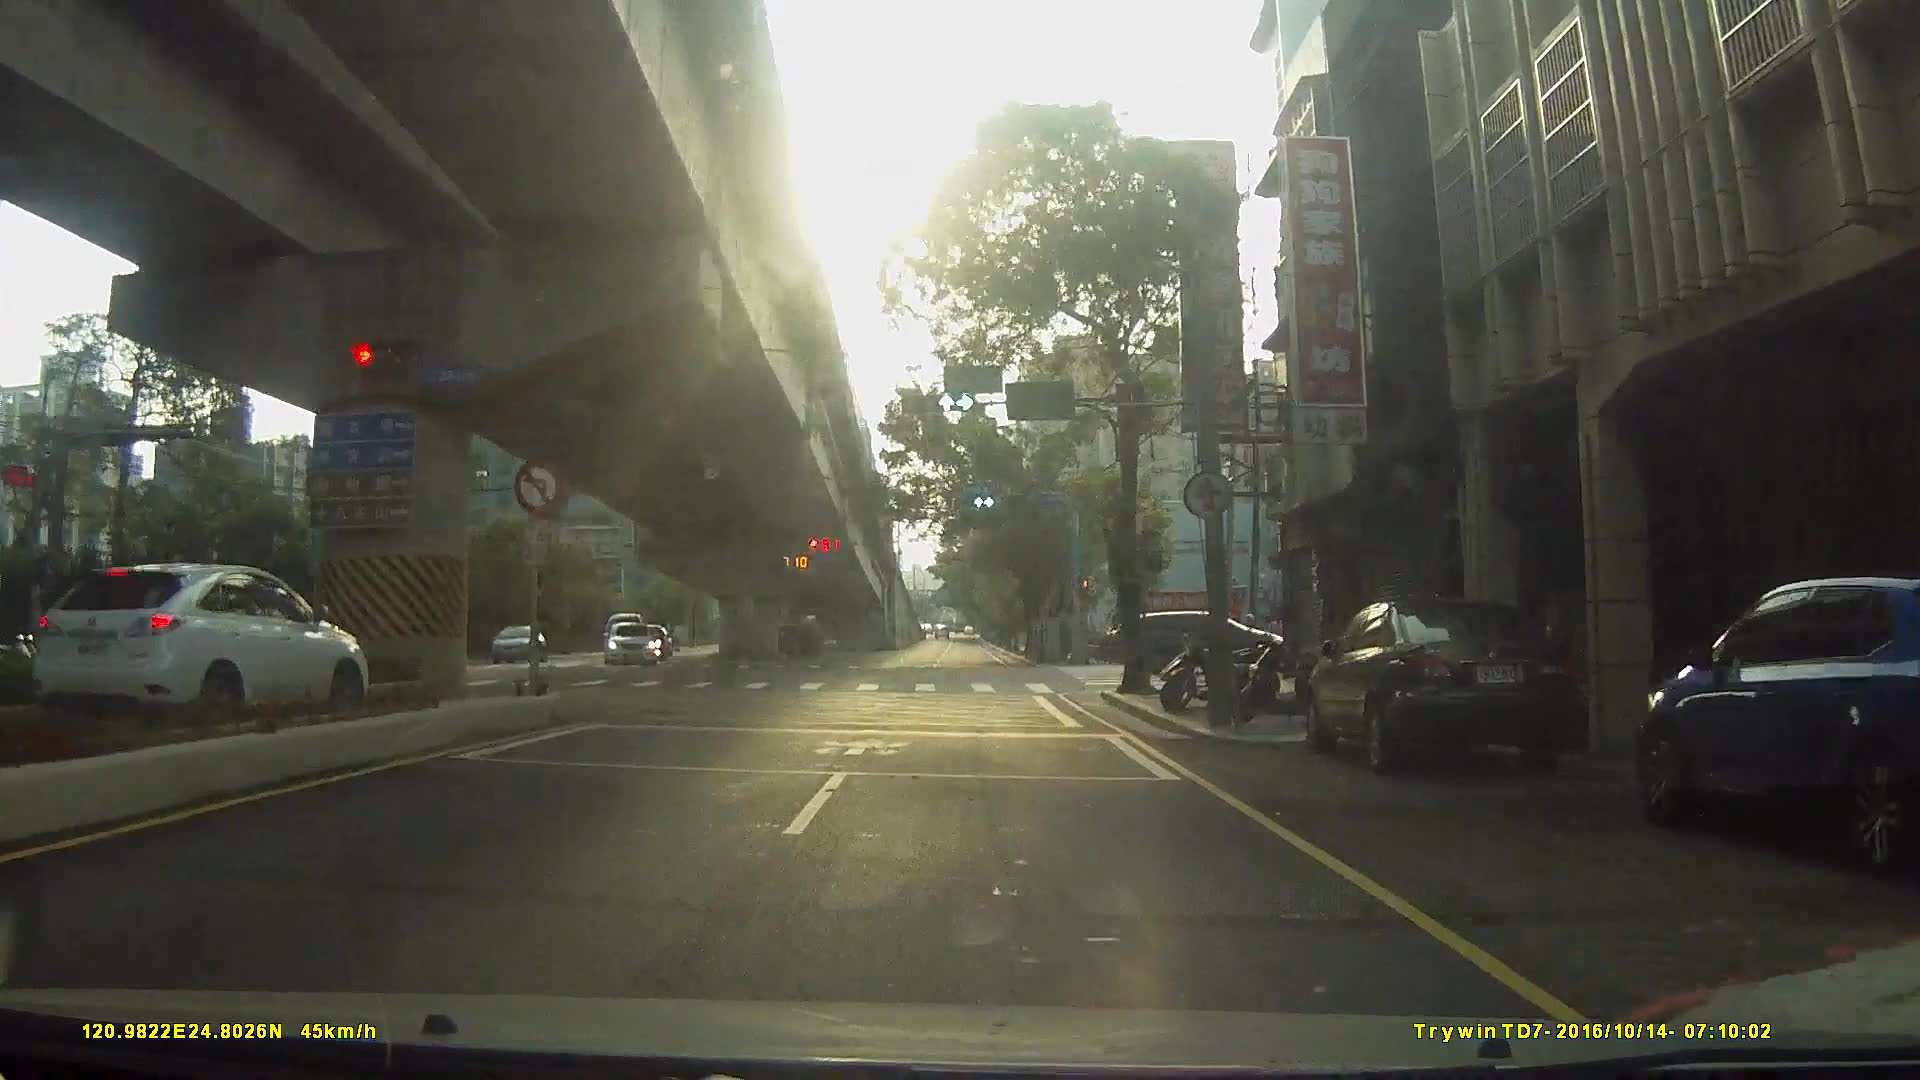vehicle: (1631, 571, 1920, 865), (26, 553, 363, 732), (1309, 597, 1597, 785), (1124, 611, 1291, 675), (760, 618, 824, 659), (484, 622, 542, 665), (601, 622, 655, 667)
